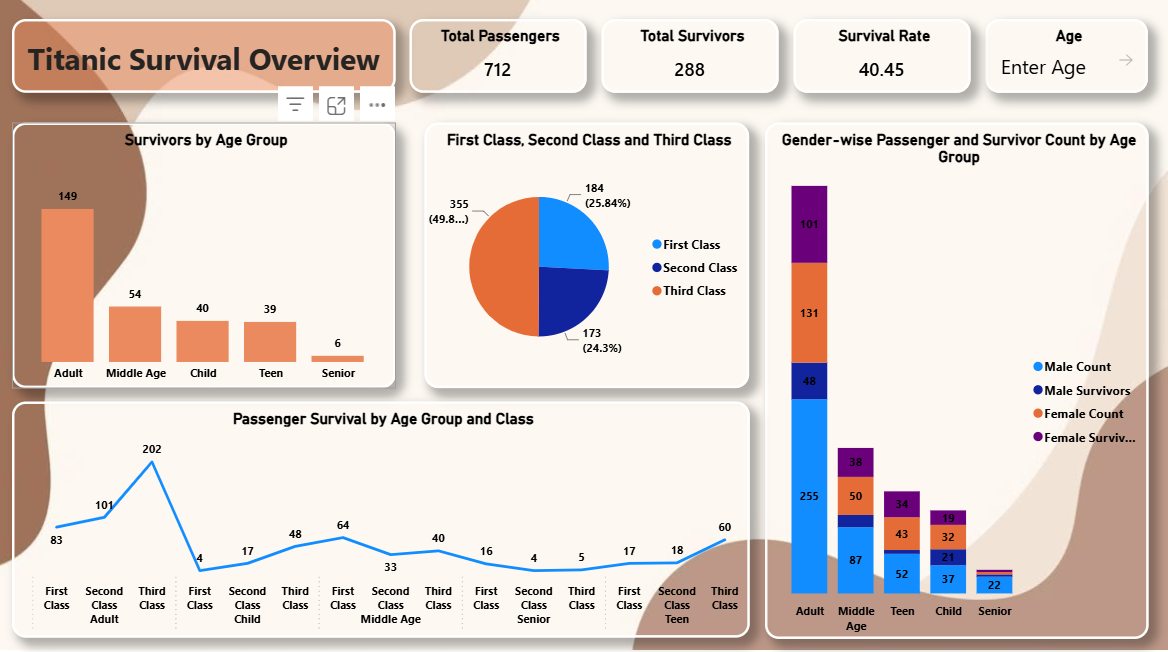

What the dashboard file says about the page in this screenshot:
{"tool":"powerbi","page":{"name":"Ds - 1","canvas":[1280,720],"ordinal":0},"visuals":[{"type":"textbox","box":[16,32,416,80],"z":0},{"type":"cardVisual","title":"Total Passengers","fields":{"Data":["train.Total Passengers"]},"box":[448,32,192,80],"z":1000},{"type":"cardVisual","title":"Total Survivors","fields":{"Data":["train.Total Survivors"]},"box":[656,32,192,80],"z":2000},{"type":"textSlicer","fields":{"Values":["train.Age"]},"box":[1072,32,176,80],"z":3000},{"type":"columnChart","title":"Survivors by Age Group","fields":{"Category":["train.Age Group"],"Y":["Sum(train.Survived)"]},"box":[16,144,416,288],"z":4000},{"type":"pieChart","fields":{"Y":["train.First Class","train.Second Class","train.Third Class"]},"box":[464,144,352,288],"z":5000},{"type":"columnChart","title":"Gender-wise Passenger and Survivor Count by Age Group","fields":{"Y":["train.Male Count","train.Male Survivors","train.Female Count","train.Female Survivors"],"Category":["train.Age Group"]},"box":[832,144,416,560],"z":6000},{"type":"lineChart","title":"Passenger Survival by Age Group and Class","fields":{"Category":["train.Age Group","train.Class Name"],"Y":["CountNonNull(train.Survival Status)"]},"box":[16,448,800,256],"z":7000},{"type":"cardVisual","title":"Survival Rate","fields":{"Data":["train.Survival Rate"]},"box":[864,32,192,80],"z":8000}]}

Visuals, with their boxes in screenshot pixels (x1, y1, x2, y2), scaled from the page's 1280x720 canvas onto the 1168x652 screenshot:
textbox: l=15, t=29, r=394, b=101
"Total Passengers" cardVisual: l=409, t=29, r=584, b=101
"Total Survivors" cardVisual: l=599, t=29, r=774, b=101
textSlicer - train.Age: l=978, t=29, r=1139, b=101
"Survivors by Age Group" columnChart: l=15, t=130, r=394, b=391
pieChart - train.First Class x train.Second Class: l=423, t=130, r=745, b=391
"Gender-wise Passenger and Survivor Count by Age Group" columnChart: l=759, t=130, r=1139, b=638
"Passenger Survival by Age Group and Class" lineChart: l=15, t=406, r=745, b=638
"Survival Rate" cardVisual: l=788, t=29, r=964, b=101
